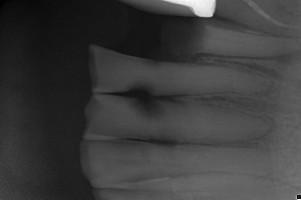Furcation Involvement: (263, 49, 301, 66)
